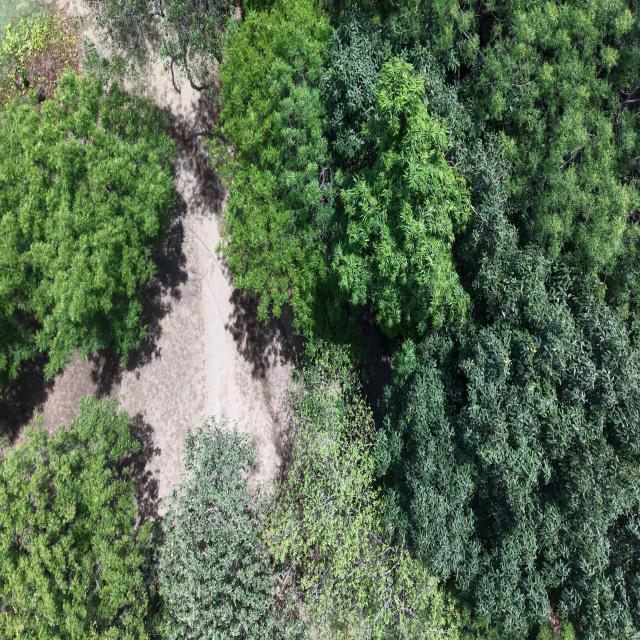DRY_AREA: (0, 222, 301, 508), (0, 0, 37, 38)
VEGETATION_TREE: (93, 0, 639, 639), (314, 3, 639, 638), (0, 349, 498, 639), (378, 221, 639, 638), (311, 2, 639, 317), (159, 347, 498, 639), (219, 0, 481, 339), (219, 0, 470, 335), (0, 397, 304, 639), (388, 0, 639, 272), (269, 349, 464, 639), (0, 71, 174, 387), (460, 0, 639, 271), (219, 0, 339, 333), (333, 58, 470, 334), (0, 397, 155, 639), (159, 418, 300, 639), (86, 0, 235, 90), (321, 12, 388, 168), (153, 0, 235, 90), (0, 13, 79, 104), (87, 0, 160, 64), (606, 225, 639, 343), (0, 0, 37, 33), (537, 612, 576, 639)
